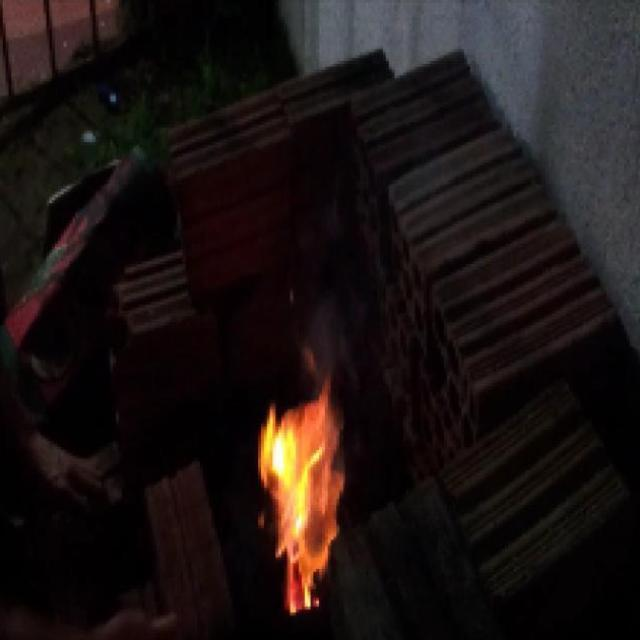smoke: (262, 356, 346, 619)
